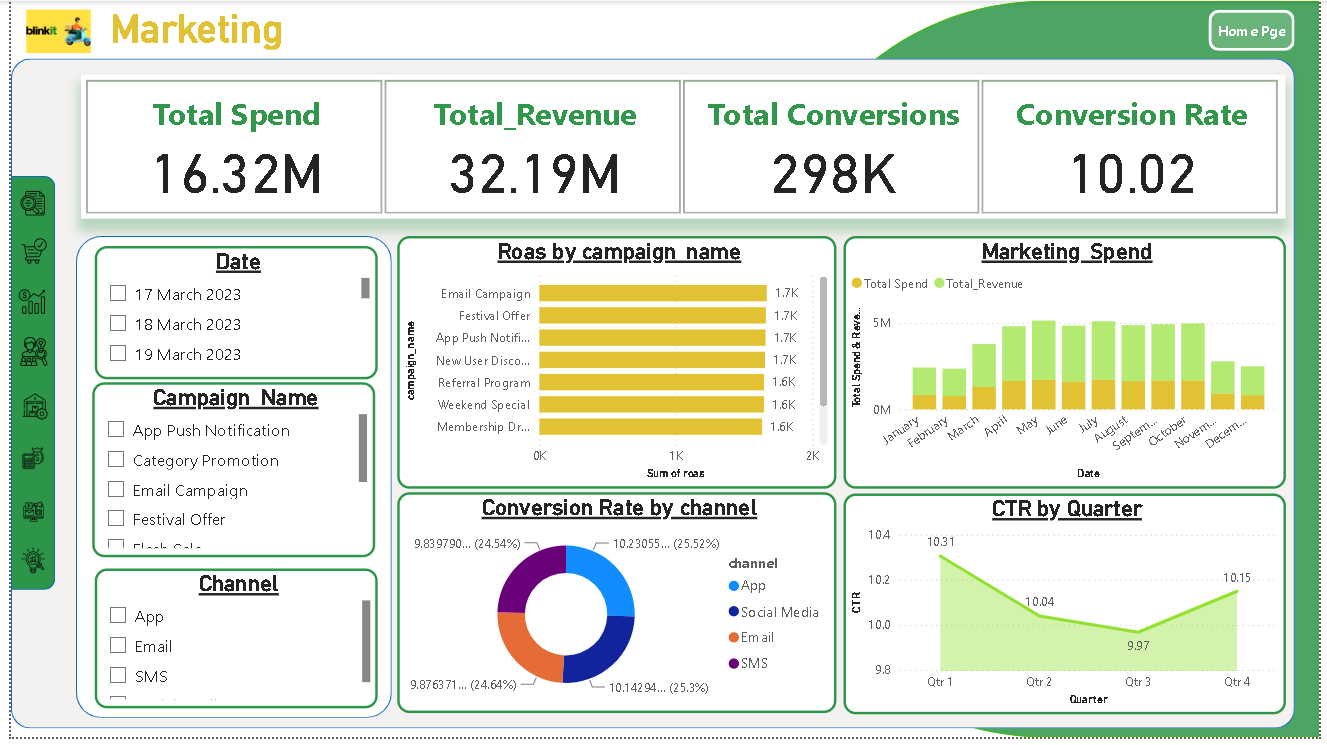

The dashboard page shown, as its layout file describes it:
{"tool":"powerbi","page":{"name":"Marketing","canvas":[1280,720],"ordinal":7},"visuals":[{"type":"group","id":"g1","title":"Group 2","box":[0,0,1280,720.2],"z":0},{"type":"shape","box":[63.1,229.7,309,471.5],"z":0,"group":"g3"},{"type":"shape","box":[740.7,0,539.3,720.2],"z":1000,"group":"g1"},{"type":"image","box":[6.1,3.7,80.7,52.6],"z":1000},{"type":"slicer","title":"Campaign_Name","fields":{"Values":["blinkit_marketing_performance.campaign_name"]},"box":[79.1,373.3,276.4,171.4],"z":1000,"group":"g3"},{"type":"textbox","title":"Marketing","box":[91.7,3.7,239.7,52.6],"z":2000},{"type":"shape","box":[0,56.3,1255.8,655.4],"z":2000,"group":"g1"},{"type":"slicer","title":"Channel","fields":{"Values":["blinkit_marketing_performance.channel"]},"box":[81.7,554.4,277,136.7],"z":2000,"group":"g3"},{"type":"cardVisual","fields":{"Data":["blinkit_customer_feedback.Total Spend","blinkit_customer_feedback.Total_Revenue","blinkit_customer_feedback.Total Conversions","blinkit_customer_feedback.Conversion Rate"]},"box":[68.5,72.5,1178.2,141.1],"z":3000},{"type":"group","id":"g2","title":"Group 1","box":[0,171.2,46.5,404.8],"z":3000,"group":"g1"},{"type":"slicer","title":"Date","fields":{"Values":["blinkit_marketing_performance.date"]},"box":[81.7,239.4,276.4,130.7],"z":3000,"group":"g3"},{"type":"group","id":"g3","title":"Group 2","box":[63.1,229.7,309,471.5],"z":4000},{"type":"lineStackedColumnComboChart","title":"Marketing_Spend","fields":{"Category":["blinkit_marketing_performance.date.Variation.Date Hierarchy.Month","blinkit_marketing_performance.date.Variation.Date Hierarchy.Day"],"Y":["blinkit_customer_feedback.Total Spend","blinkit_customer_feedback.Total_Revenue"]},"box":[814.1,229.7,432.6,247.2],"z":5000},{"type":"barChart","title":"Roas by campaign_name","fields":{"Category":["blinkit_marketing_performance.campaign_name"],"Y":["Sum(blinkit_marketing_performance.roas)"]},"box":[377.5,229.7,429.9,247.2],"z":6000},{"type":"shape","box":[0,171.2,43.2,404.8],"z":7000,"group":"g2"},{"type":"donutChart","fields":{"Category":["blinkit_marketing_performance.channel"],"Y":["blinkit_customer_feedback.Conversion Rate"]},"box":[377.5,480.9,429.9,216.3],"z":7000},{"type":"areaChart","fields":{"Y":["blinkit_customer_feedback.CTR"],"Category":["blinkit_marketing_performance.date.Variation.Date Hierarchy.Quarter","blinkit_marketing_performance.date.Variation.Date Hierarchy.Month"]},"box":[814.1,482.3,432.6,216.3],"z":8000},{"type":"shape","box":[1171.5,8.6,84.4,40.4],"z":9000},{"type":"image","box":[0.8,180.4,40,34],"z":9000,"group":"g2"},{"type":"image","box":[0.8,227.7,42.1,34.8],"z":10000,"group":"g2"},{"type":"image","box":[0.8,275.8,38.9,35.7],"z":11000,"group":"g2"},{"type":"image","box":[0.8,323.9,42.1,38.2],"z":12000,"group":"g2"},{"type":"image","box":[0.8,378.6,45.4,35.7],"z":13000,"group":"g2"},{"type":"image","box":[0.8,431.7,41.1,31.5],"z":14000,"group":"g2"},{"type":"image","box":[0.8,484.8,42.1,30.7],"z":15000,"group":"g2"},{"type":"image","box":[1.9,529.6,38.9,35.7],"z":16000,"group":"g2"}]}

Visuals, with their boxes in screenshot pixels (x1, y1, x2, y2), scaled from the page's 1280x720 canvas onto the 1327x745 screenshot:
"Group 2" group: bbox=(0, 0, 1326, 744)
shape: bbox=(65, 238, 386, 726)
shape: bbox=(768, 0, 1326, 744)
image: bbox=(6, 4, 90, 58)
"Campaign_Name" slicer: bbox=(82, 386, 369, 564)
"Marketing" textbox: bbox=(95, 4, 344, 58)
shape: bbox=(0, 58, 1302, 736)
"Channel" slicer: bbox=(85, 574, 372, 715)
cardVisual - blinkit_customer_feedback.Total Spend x blinkit_customer_feedback.Total_Revenue: bbox=(71, 75, 1292, 221)
"Group 1" group: bbox=(0, 177, 48, 596)
"Date" slicer: bbox=(85, 248, 371, 383)
"Group 2" group: bbox=(65, 238, 386, 726)
"Marketing_Spend" lineStackedColumnComboChart: bbox=(844, 238, 1292, 493)
"Roas by campaign_name" barChart: bbox=(391, 238, 837, 493)
shape: bbox=(0, 177, 45, 596)
donutChart - blinkit_marketing_performance.channel x blinkit_customer_feedback.Conversion Rate: bbox=(391, 498, 837, 721)
areaChart - blinkit_customer_feedback.CTR x blinkit_marketing_performance.date.Variation.Date Hierarchy.Quarter: bbox=(844, 499, 1292, 723)
shape: bbox=(1215, 9, 1302, 51)
image: bbox=(1, 187, 42, 222)
image: bbox=(1, 236, 44, 272)
image: bbox=(1, 285, 41, 322)
image: bbox=(1, 335, 44, 375)
image: bbox=(1, 392, 48, 429)
image: bbox=(1, 447, 43, 479)
image: bbox=(1, 502, 44, 533)
image: bbox=(2, 548, 42, 585)
